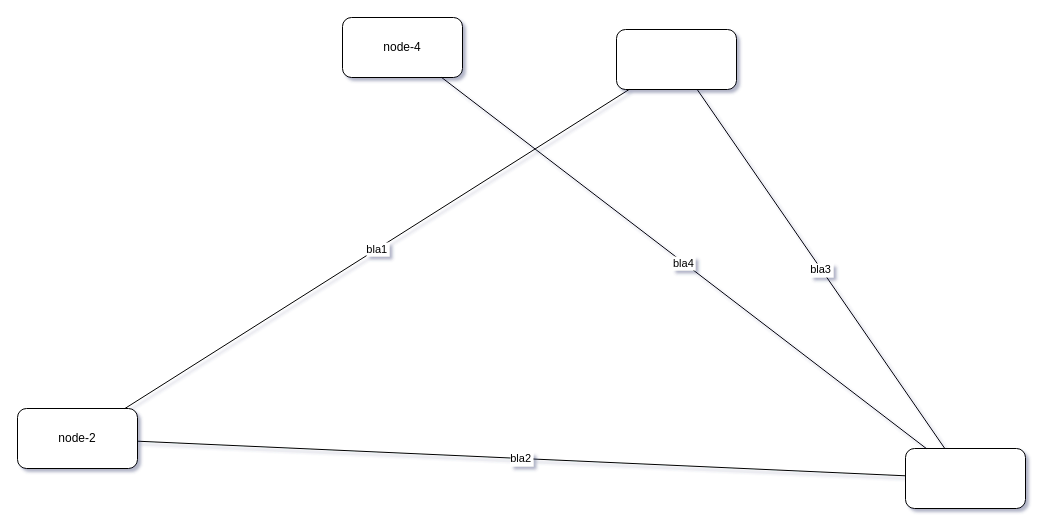
This 1049x532 diagram has some shape labels left out. The shapes that lost their labels are listed below. From the top down, each one's centre as x and y in pixels, then its label:
point (676, 59): node-1
point (965, 478): node-3
